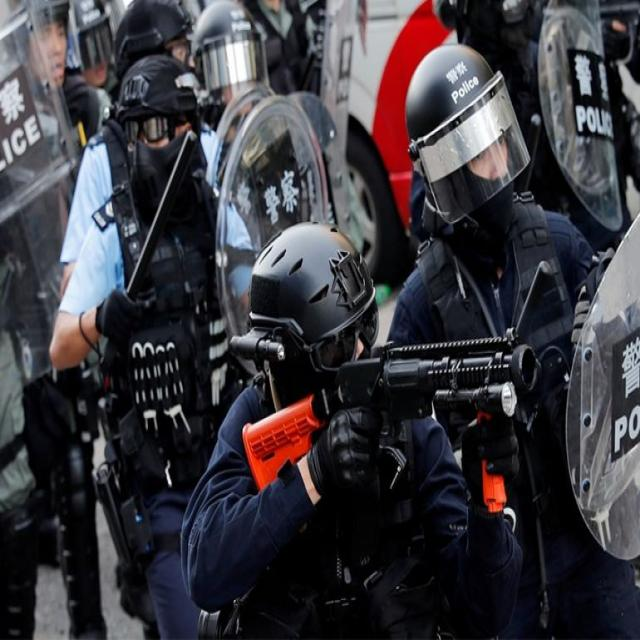police: (181, 205, 533, 640), (367, 36, 640, 584), (58, 48, 263, 640)
